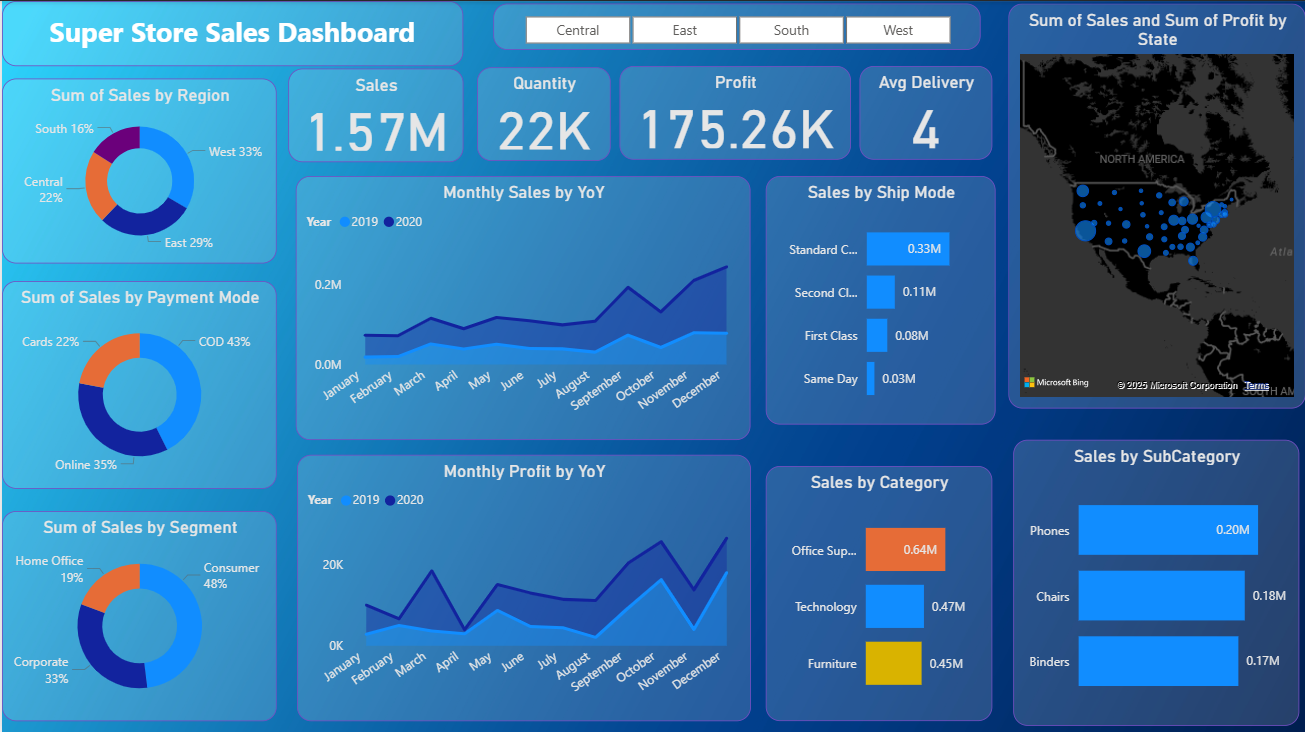

What the dashboard file says about the page in this screenshot:
{"tool":"powerbi","page":{"name":"Page 1","canvas":[1280,720],"ordinal":0},"visuals":[{"type":"clusteredBarChart","title":"Sales by Category","fields":{"Category":["SuperStore_Sales_Dataset.Category"],"Y":["Sum(SuperStore_Sales_Dataset.Sales)"]},"box":[749.7,456.4,222.1,250.3],"z":0},{"type":"clusteredBarChart","title":"Sales by SubCategory","fields":{"Category":["SuperStore_Sales_Dataset.Sub-Category","SuperStore_Sales_Dataset.Category"],"Y":["Sum(SuperStore_Sales_Dataset.Sales)"]},"box":[992.6,430.7,281,281],"z":1000},{"type":"clusteredBarChart","title":"Sales by Ship Mode","fields":{"Category":["SuperStore_Sales_Dataset.Ship Mode","SuperStore_Sales_Dataset.Sub-Category","SuperStore_Sales_Dataset.Category"],"Y":["Sum(SuperStore_Sales_Dataset.Sales)"]},"box":[749.7,171.8,225.8,244.2],"z":2000},{"type":"stackedAreaChart","title":"Monthly Sales by YoY","fields":{"Y":["Sum(SuperStore_Sales_Dataset.Sales)"],"Category":["SuperStore_Sales_Dataset.Order Date.Variation.Date Hierarchy.Month","SuperStore_Sales_Dataset.Order Date.Variation.Date Hierarchy.Day"],"Series":["SuperStore_Sales_Dataset.Order Date.Variation.Date Hierarchy.Year"]},"box":[288.3,171.8,446.6,258.9],"z":3000},{"type":"stackedAreaChart","title":"Monthly Profit by YoY","fields":{"Category":["SuperStore_Sales_Dataset.Order Date.Variation.Date Hierarchy.Month","SuperStore_Sales_Dataset.Order Date.Variation.Date Hierarchy.Day"],"Series":["SuperStore_Sales_Dataset.Order Date.Variation.Date Hierarchy.Year"],"Y":["Sum(SuperStore_Sales_Dataset.Profit)"]},"box":[289.6,445.4,445.4,261.4],"z":4000},{"type":"map","fields":{"Category":["SuperStore_Sales_Dataset.State"],"Size":["Sum(SuperStore_Sales_Dataset.Sales)"]},"box":[987.7,2.5,292,397.5],"z":5000},{"type":"donutChart","fields":{"Category":["SuperStore_Sales_Dataset.Segment"],"Y":["Sum(SuperStore_Sales_Dataset.Sales)"]},"box":[0,500.6,269.9,206.1],"z":6000},{"type":"donutChart","fields":{"Category":["SuperStore_Sales_Dataset.Payment Mode"],"Y":["Sum(SuperStore_Sales_Dataset.Sales)"]},"box":[0,274.8,269.9,203.7],"z":7000},{"type":"slicer","fields":{"Values":["SuperStore_Sales_Dataset.Region"]},"box":[482.2,2.5,478.5,45.4],"z":8000},{"type":"textbox","box":[0,0,452.8,63.8],"z":9000},{"type":"card","title":"Sales","fields":{"Values":["Sum(SuperStore_Sales_Dataset.Sales)"]},"box":[281,66.3,171.8,92],"z":10000},{"type":"card","title":"Quantity","fields":{"Values":["Sum(SuperStore_Sales_Dataset.Quantity)"]},"box":[466.3,65,131.3,92],"z":11000},{"type":"card","title":"Profit","fields":{"Values":["Sum(SuperStore_Sales_Dataset.Profit)"]},"box":[606.1,63.8,227,92],"z":12000},{"type":"card","title":"Avg Delivery","fields":{"Values":["Avg(SuperStore_Sales_Dataset.AvgDelivery)"]},"box":[841.7,63.8,130.1,92],"z":13000},{"type":"donutChart","fields":{"Y":["Sum(SuperStore_Sales_Dataset.Sales)"],"Category":["SuperStore_Sales_Dataset.Region"]},"box":[0,76.1,269.9,181.6],"z":14000}]}

Visuals, with their boxes in screenshot pixels (x1, y1, x2, y2), scaled from the page's 1280x720 canvas onto the 1305x732 screenshot:
"Sales by Category" clusteredBarChart: region(764, 464, 991, 718)
"Sales by SubCategory" clusteredBarChart: region(1012, 438, 1298, 724)
"Sales by Ship Mode" clusteredBarChart: region(764, 175, 995, 423)
"Monthly Sales by YoY" stackedAreaChart: region(294, 175, 749, 438)
"Monthly Profit by YoY" stackedAreaChart: region(295, 453, 749, 719)
map - SuperStore_Sales_Dataset.State x Sum(SuperStore_Sales_Dataset.Sales): region(1007, 3, 1304, 407)
donutChart - SuperStore_Sales_Dataset.Segment x Sum(SuperStore_Sales_Dataset.Sales): region(0, 509, 275, 718)
donutChart - SuperStore_Sales_Dataset.Payment Mode x Sum(SuperStore_Sales_Dataset.Sales): region(0, 279, 275, 486)
slicer - SuperStore_Sales_Dataset.Region: region(492, 3, 979, 49)
textbox: region(0, 0, 462, 65)
"Sales" card: region(286, 67, 462, 161)
"Quantity" card: region(475, 66, 609, 160)
"Profit" card: region(618, 65, 849, 158)
"Avg Delivery" card: region(858, 65, 991, 158)
donutChart - Sum(SuperStore_Sales_Dataset.Sales) x SuperStore_Sales_Dataset.Region: region(0, 77, 275, 262)
